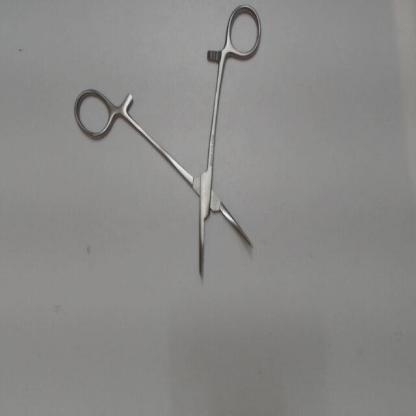Crile Artery Forceps: (70, 2, 267, 284)
